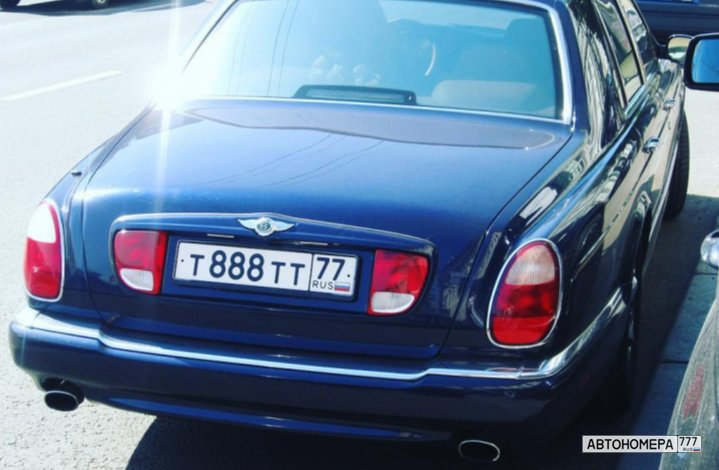number_plate: (174, 231, 362, 300)
